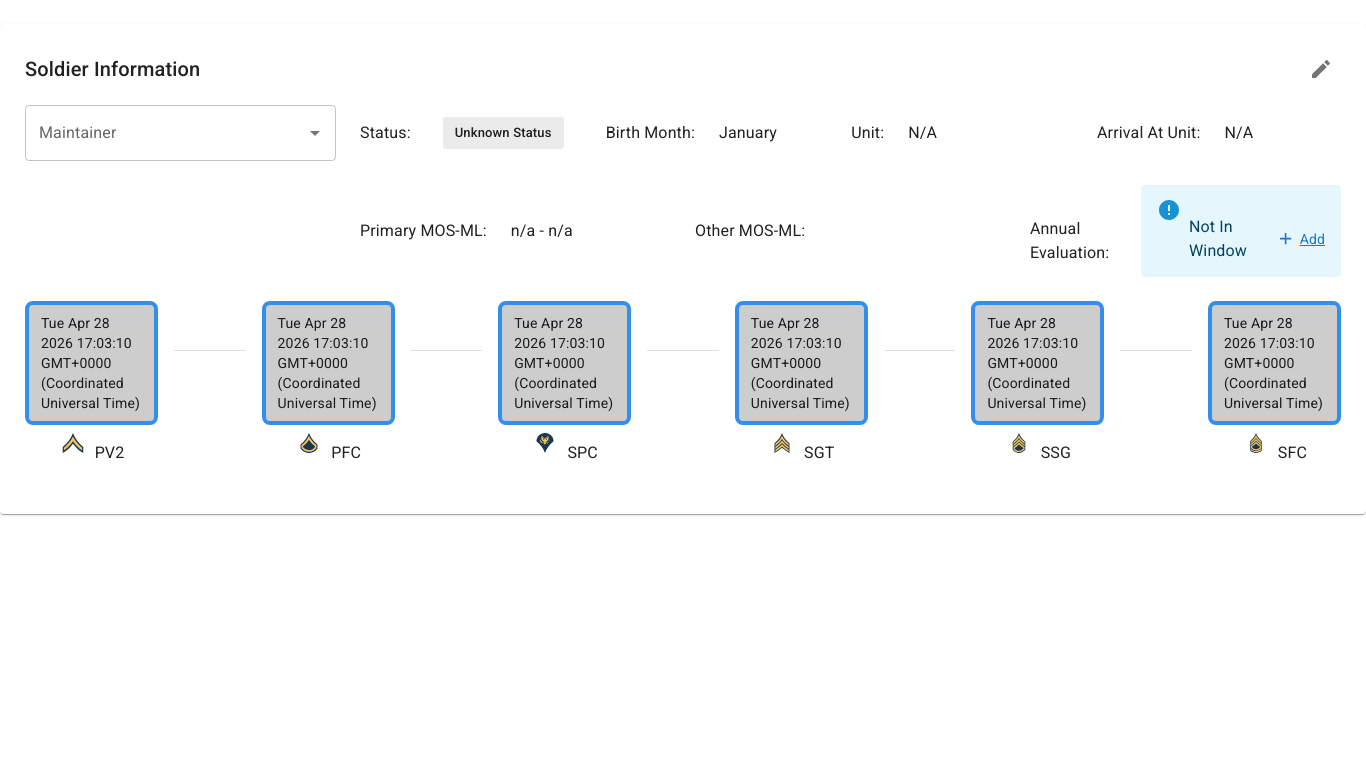
SoldierInformation Component › opens the edit dialog when the edit button is clicked
Click the button named "edit": (1321, 69) [1301,49,1341,89]
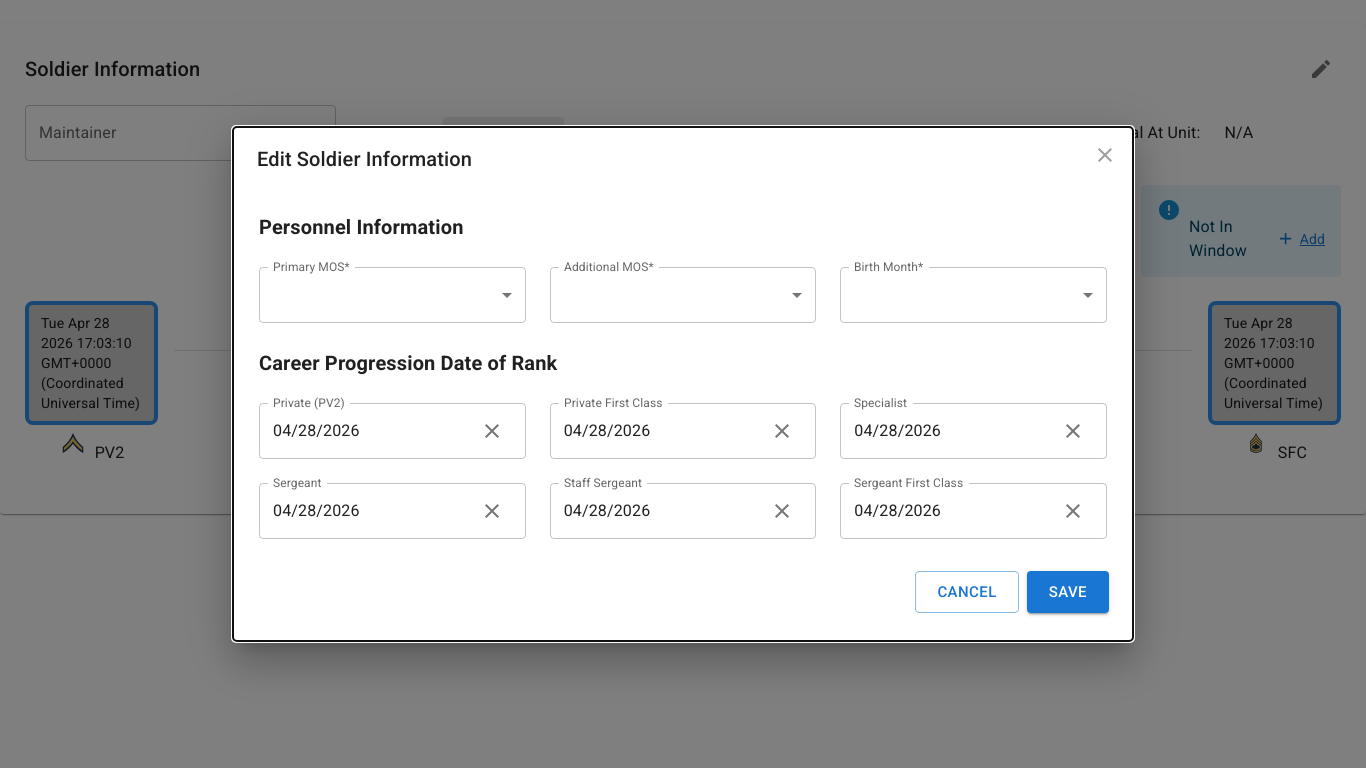
expect the heading "Edit Soldier Information" is shown: met, box [257,147,472,171]
